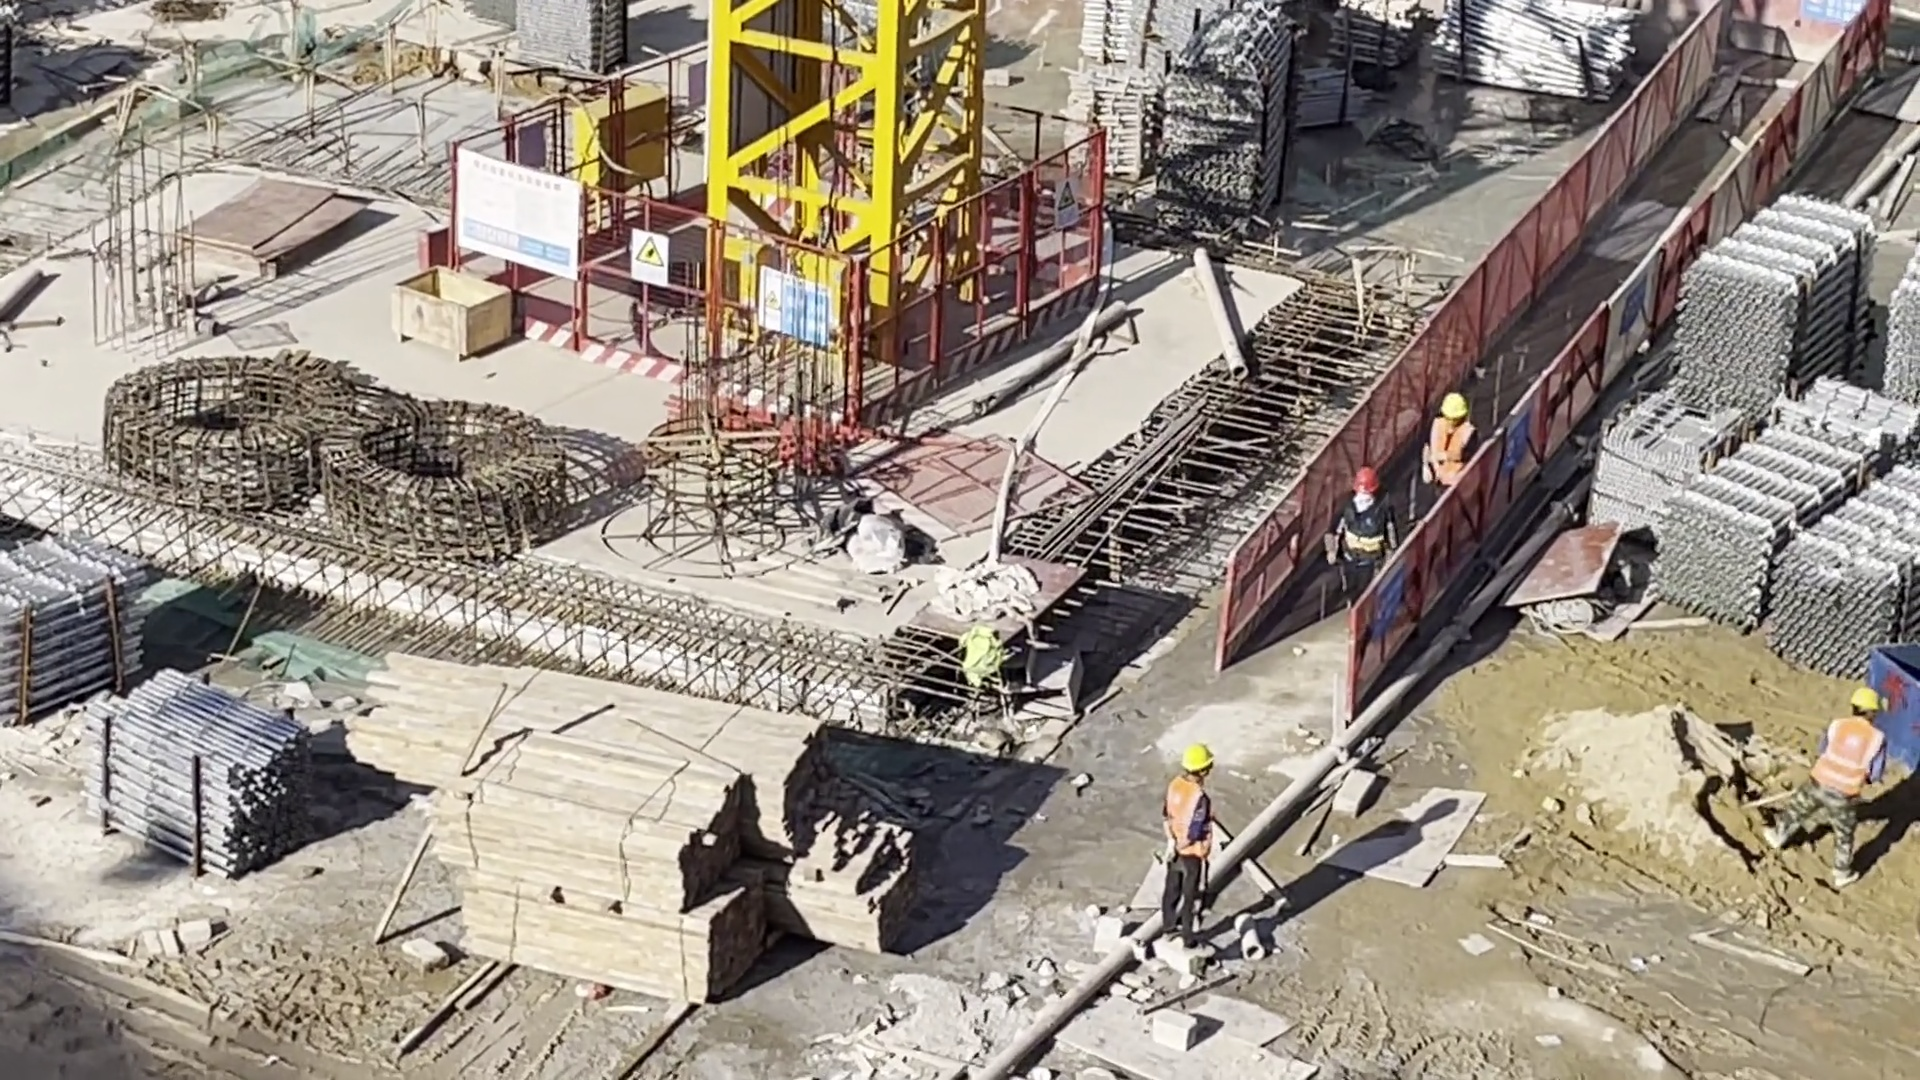board: (192, 189, 352, 269)
ebox: (574, 89, 670, 193)
fence: (1235, 11, 1883, 670)
helmet: (1439, 395, 1470, 423), (1351, 466, 1381, 495), (1182, 746, 1213, 772), (1852, 687, 1875, 711)
hopper: (1870, 639, 1920, 769)
person: (1783, 687, 1881, 889), (1166, 746, 1215, 946), (1336, 464, 1389, 607), (1421, 392, 1479, 510)
scaffold: (1652, 424, 1920, 668), (1056, 7, 1282, 211), (89, 676, 306, 876), (1685, 196, 1865, 406), (1, 542, 138, 722), (1439, 1, 1631, 100), (521, 1, 632, 69), (1332, 1, 1420, 72)
slogan: (763, 270, 832, 349), (1377, 562, 1404, 639), (631, 231, 669, 281), (1504, 406, 1529, 477), (1051, 173, 1079, 224), (1802, 4, 1863, 24)
vest: (1820, 714, 1878, 795), (1169, 776, 1204, 854), (1428, 420, 1471, 481)
wood: (371, 661, 829, 858), (465, 741, 771, 1000)
